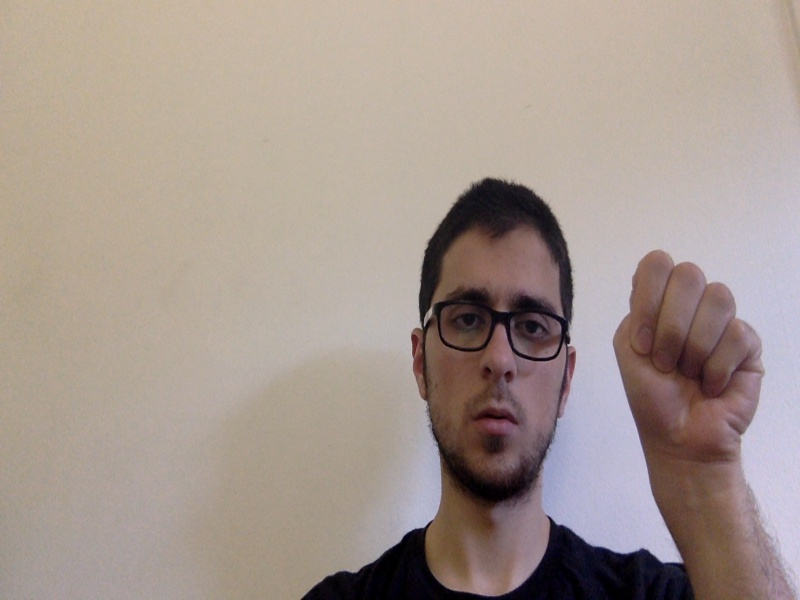0-hand: (614, 251, 763, 457)
